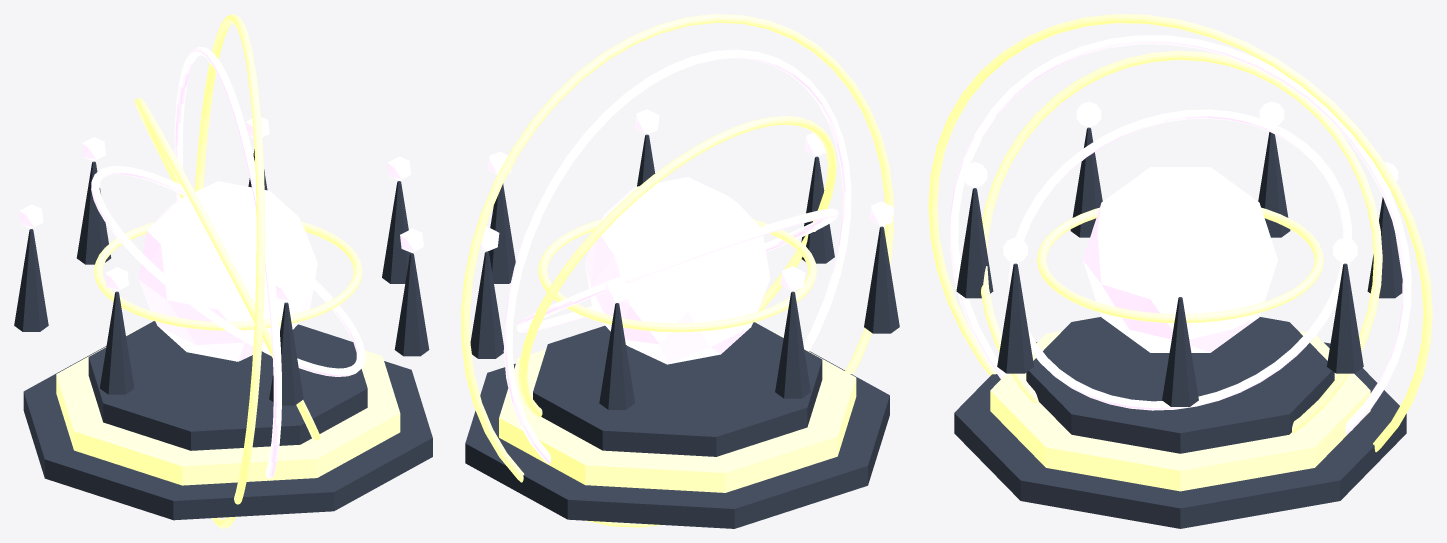
File: gpu-blender-v48.glb
3 renders of one model, left to right at view 1: azimuth 30°, elevation 25°; view 2: azimuth 150°, elevation 25°; view 3: azimuth 270°, elevation 25°, orthographic. The views are drawn at different scales.
Visible parts, largest first — view 1: Cylinder.002, Cylinder, SovereignCore_zoth-studio-v2, Cylinder.001, Torus.004, Torus.003, Torus.001, Torus, Torus.002, Cone.006, Cone.004, Cone.003 (+3 smaller); view 2: Cylinder.002, SovereignCore_zoth-studio-v2, Cylinder, Cylinder.001, Torus.004, Torus.003, Torus.002, Torus.001, Torus, Cone.004, Cone.003, Cone.002 (+4 smaller); view 3: SovereignCore_zoth-studio-v2, Cylinder.002, Cylinder, Cylinder.001, Torus.004, Torus.003, Torus.002, Torus.001, Torus, Cone.001, Cone.006, Cone (+4 smaller).
Boxes of the visible parts, x1=… form: Cylinder.002: x1=88, y1=321, x2=367, y2=450; Cylinder: x1=23, y1=346, x2=432, y2=520; SovereignCore_zoth-studio-v2: x1=139, y1=181, x2=317, y2=361; Cylinder.001: x1=56, y1=328, x2=400, y2=485; Torus.004: x1=195, y1=14, x2=265, y2=528; Torus.003: x1=174, y1=46, x2=281, y2=480; Torus.001: x1=91, y1=166, x2=365, y2=376; Torus: x1=94, y1=222, x2=362, y2=330; Torus.002: x1=135, y1=97, x2=320, y2=440; Cone.006: x1=394, y1=253, x2=429, y2=356; Cone.004: x1=100, y1=291, x2=134, y2=394; Cone.003: x1=14, y1=229, x2=48, y2=331; Cylinder.002: x1=533, y1=322, x2=822, y2=456; SovereignCore_zoth-studio-v2: x1=585, y1=177, x2=770, y2=364; Cylinder: x1=465, y1=351, x2=889, y2=528; Cylinder.001: x1=499, y1=330, x2=856, y2=492; Torus.004: x1=461, y1=14, x2=894, y2=527; Torus.003: x1=503, y1=49, x2=851, y2=463; Torus.002: x1=518, y1=116, x2=836, y2=417; Torus.001: x1=516, y1=208, x2=838, y2=332; Torus: x1=538, y1=219, x2=816, y2=332; Cone.004: x1=864, y1=226, x2=899, y2=333; Cone.003: x1=775, y1=291, x2=810, y2=398; Cone.002: x1=599, y1=303, x2=634, y2=409; SovereignCore_zoth-studio-v2: x1=1083, y1=167, x2=1277, y2=352; Cylinder.002: x1=1026, y1=317, x2=1334, y2=453; Cylinder: x1=954, y1=342, x2=1406, y2=528; Cylinder.001: x1=990, y1=330, x2=1370, y2=491; Torus.004: x1=928, y1=14, x2=1432, y2=452; Torus.003: x1=949, y1=35, x2=1411, y2=434; Torus.002: x1=981, y1=50, x2=1382, y2=433; Torus.001: x1=1008, y1=109, x2=1352, y2=410; Torus: x1=1037, y1=207, x2=1323, y2=322; Cone.001: x1=1327, y1=263, x2=1363, y2=373; Cone.006: x1=997, y1=263, x2=1033, y2=373; Cone: x1=1162, y1=297, x2=1198, y2=406.
Bounding box in the file's own units: 4.41 × 5.33 × 4.9.
